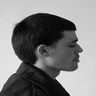ear: (33, 40, 54, 61)
